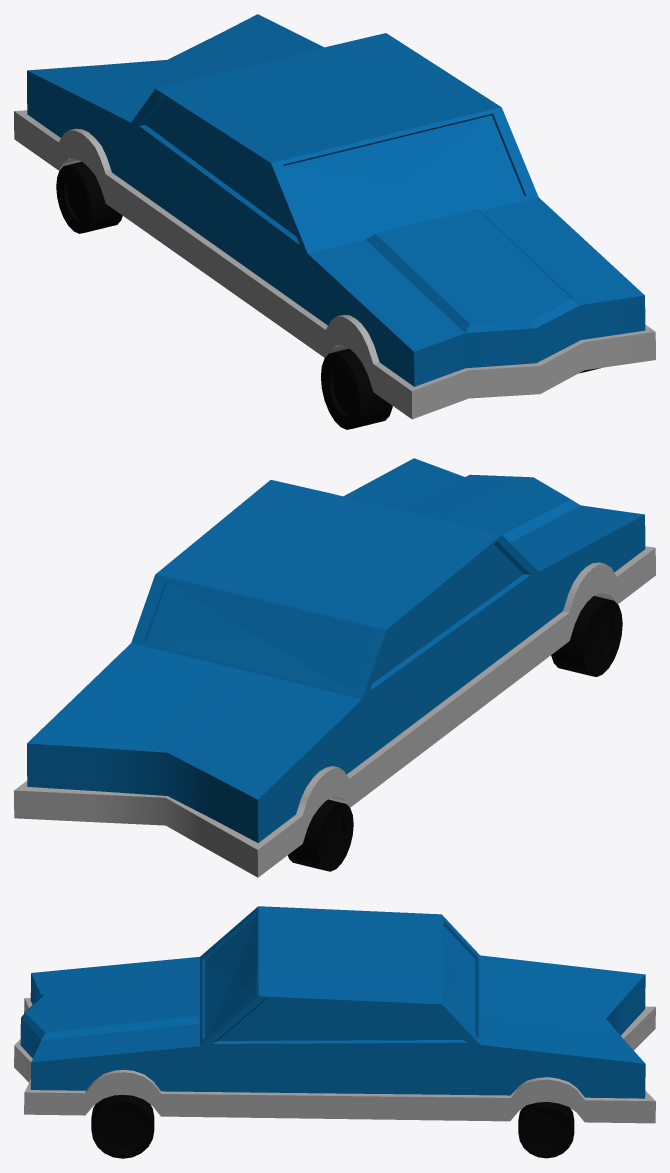
The model's file is LowRider.fbx.
3 renders of one model, top to bottom at view 1: azimuth 30°, elevation 25°; view 2: azimuth 150°, elevation 25°; view 3: azimuth 270°, elevation 25°, orthographic. The views are drawn at different scales.
Visible parts, largest first — view 1: Coche, ParteAbajo, RuedaDD, RuedaAD; view 2: Coche, ParteAbajo, RuedaDD, RuedaAD; view 3: Coche, ParteAbajo, RuedaDI, RuedaAI.
Boxes of the visible parts, <box> form: Coche: <box>27,14,645,386</box>; ParteAbajo: <box>14,110,655,419</box>; RuedaDD: <box>321,348,392,429</box>; RuedaAD: <box>56,161,122,233</box>; Coche: <box>27,458,645,842</box>; ParteAbajo: <box>14,546,655,877</box>; RuedaDD: <box>551,596,622,676</box>; RuedaAD: <box>288,799,353,871</box>; Coche: <box>20,906,645,1098</box>; ParteAbajo: <box>14,998,655,1123</box>; RuedaDI: <box>91,1095,154,1158</box>; RuedaAI: <box>518,1102,574,1158</box>.
Size of the model in its own units: 0.8658 by 0.6244 by 2.31.
